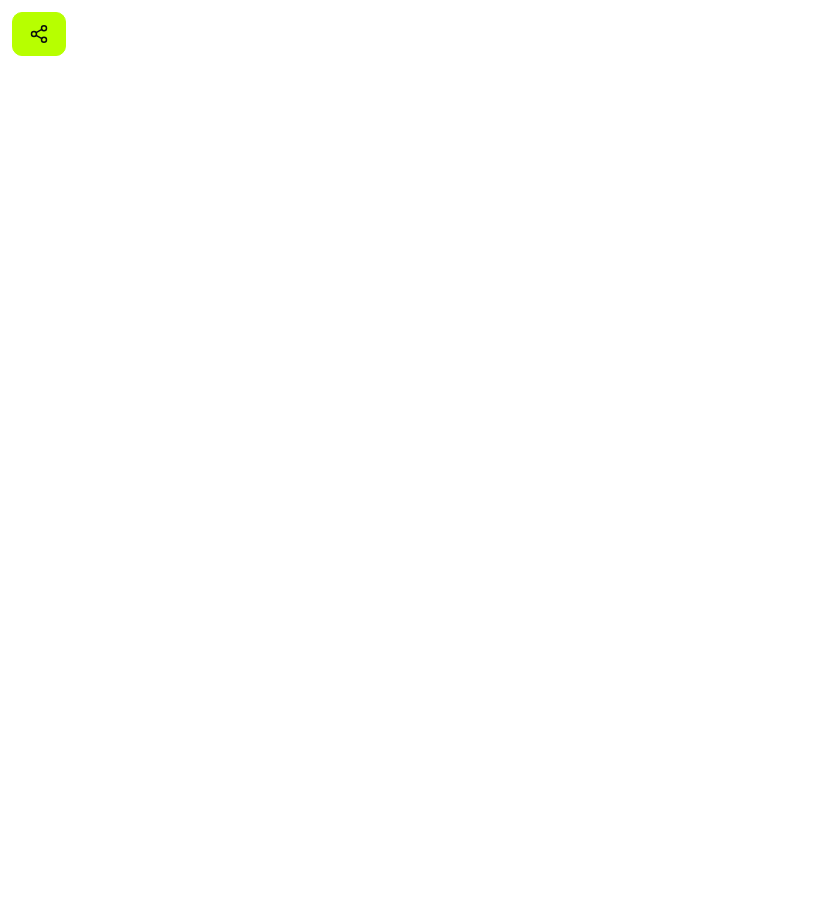
it: ações da loja › [CA-8] @spec:AC-10701 sem compartilhamento nativo, copia o link e avisa
Click the button named "Compartilhar Casa do Zé": (39, 34) [12,12,66,56]
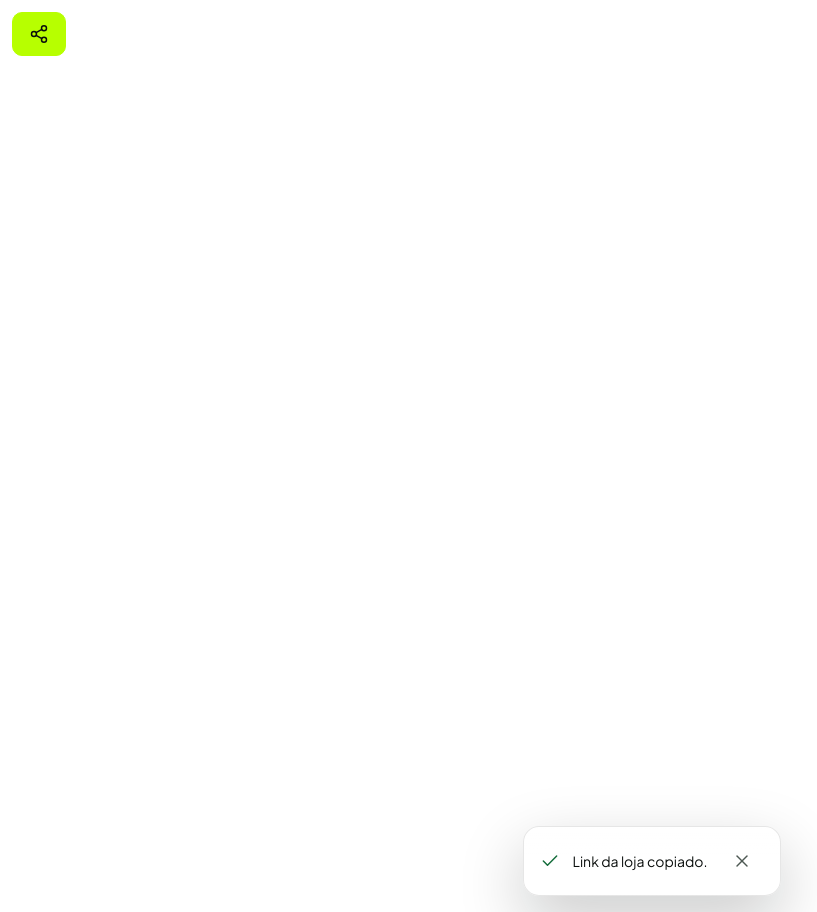
expect the text "Link da loja copiado." is shown: met, box [572,851,708,871]
